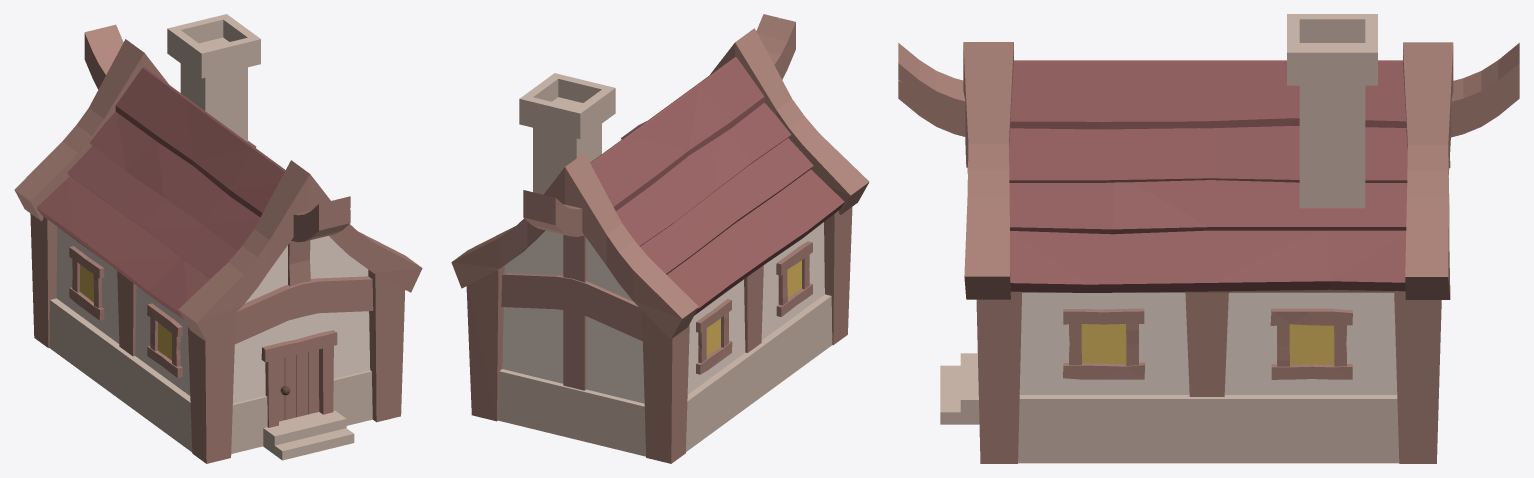
File: House03.fbx
The picture shows the model from 3 angles, left to right: view 1: azimuth 30°, elevation 25°; view 2: azimuth 150°, elevation 25°; view 3: azimuth 270°, elevation 25°; orthographic projection. The views are drawn at different scales.
Visible parts, largest first — view 1: House; view 2: House; view 3: House.
Boxes of the visible parts, x1,y1,x2,y2 form: House: (14,14,422,463); House: (451,14,869,463); House: (898,14,1519,463).
Bounding box in the file's own units: 6.54 × 8.28 × 11.76.
